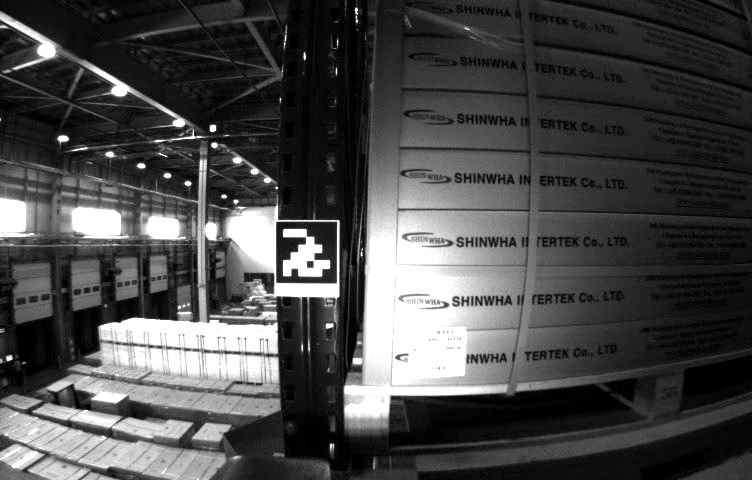True Barcode: (408, 324, 466, 378)
